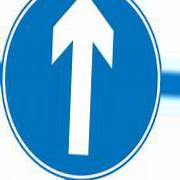forward: (2, 1, 164, 180)
